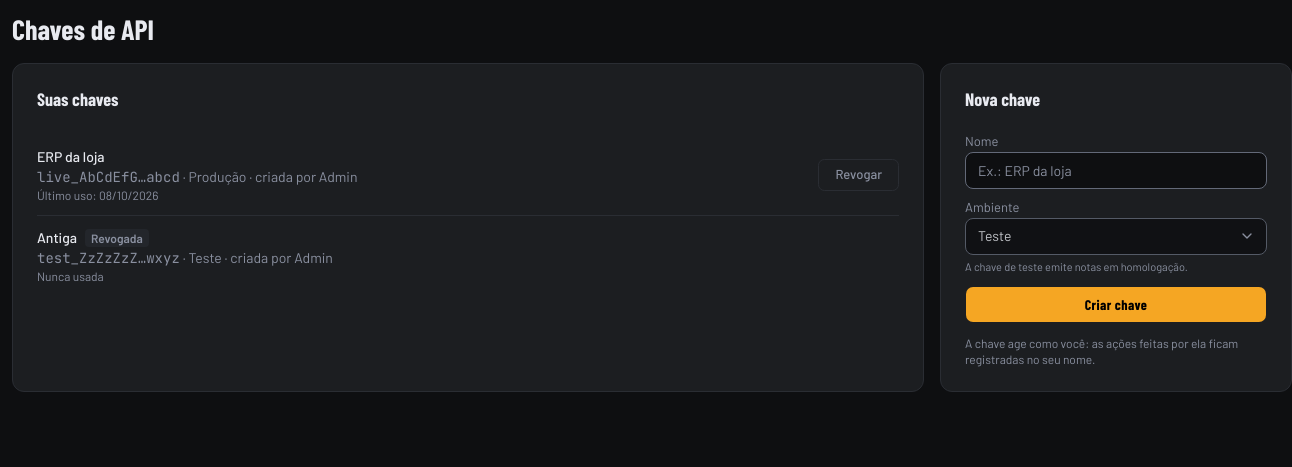
Test case: chaves de API › erro da API aparece em alerta (limite de 20 chaves)
Type "ERP" into the field labelled "Nome" at (1116, 170), box [965,152,1267,188]
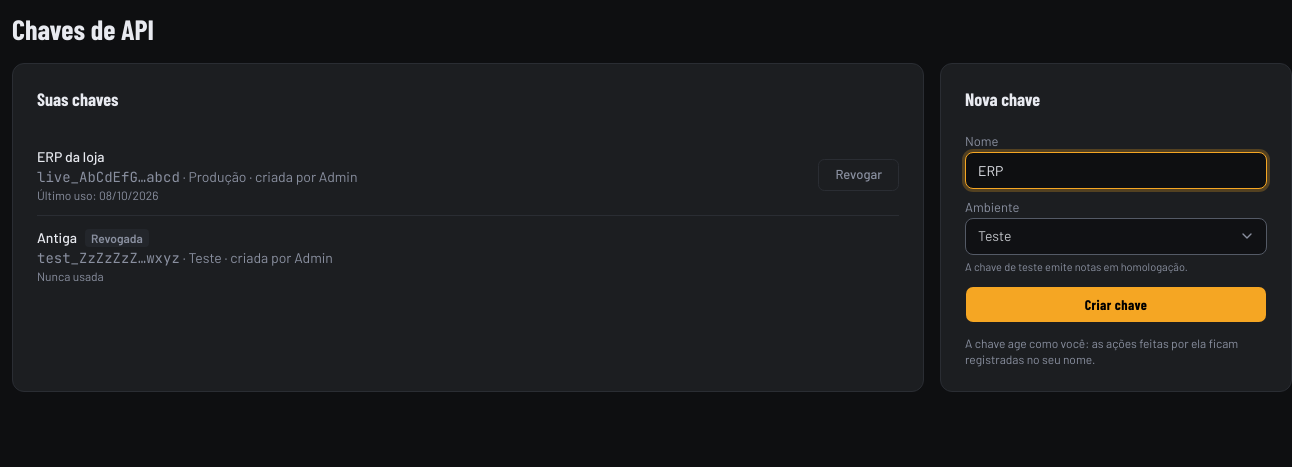
Click the button "Criar chave" at (1116, 305), box [965,286,1267,323]
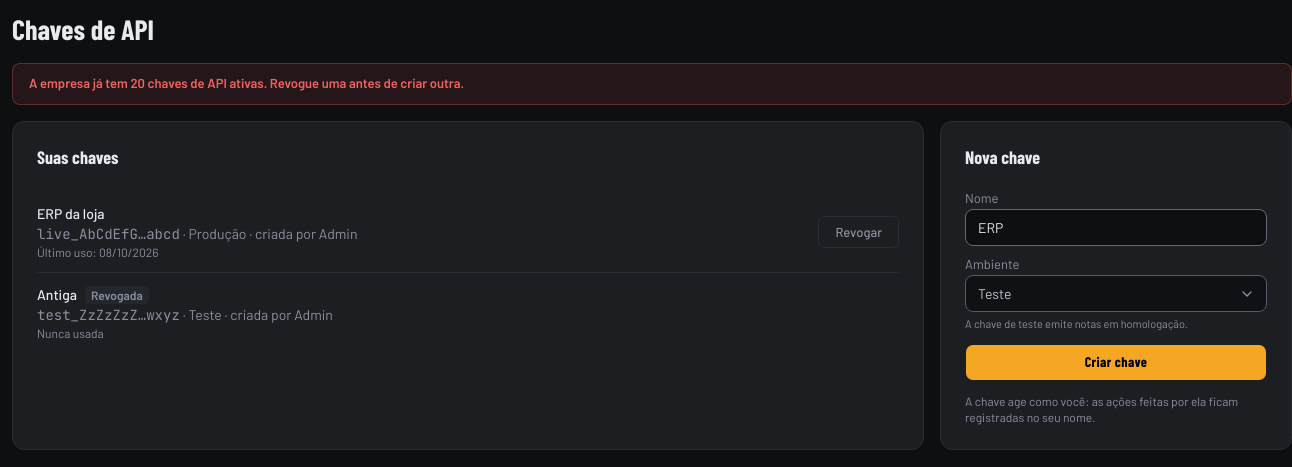
Now the message shows "20 chaves de API ativas", box [29,75,464,91]
